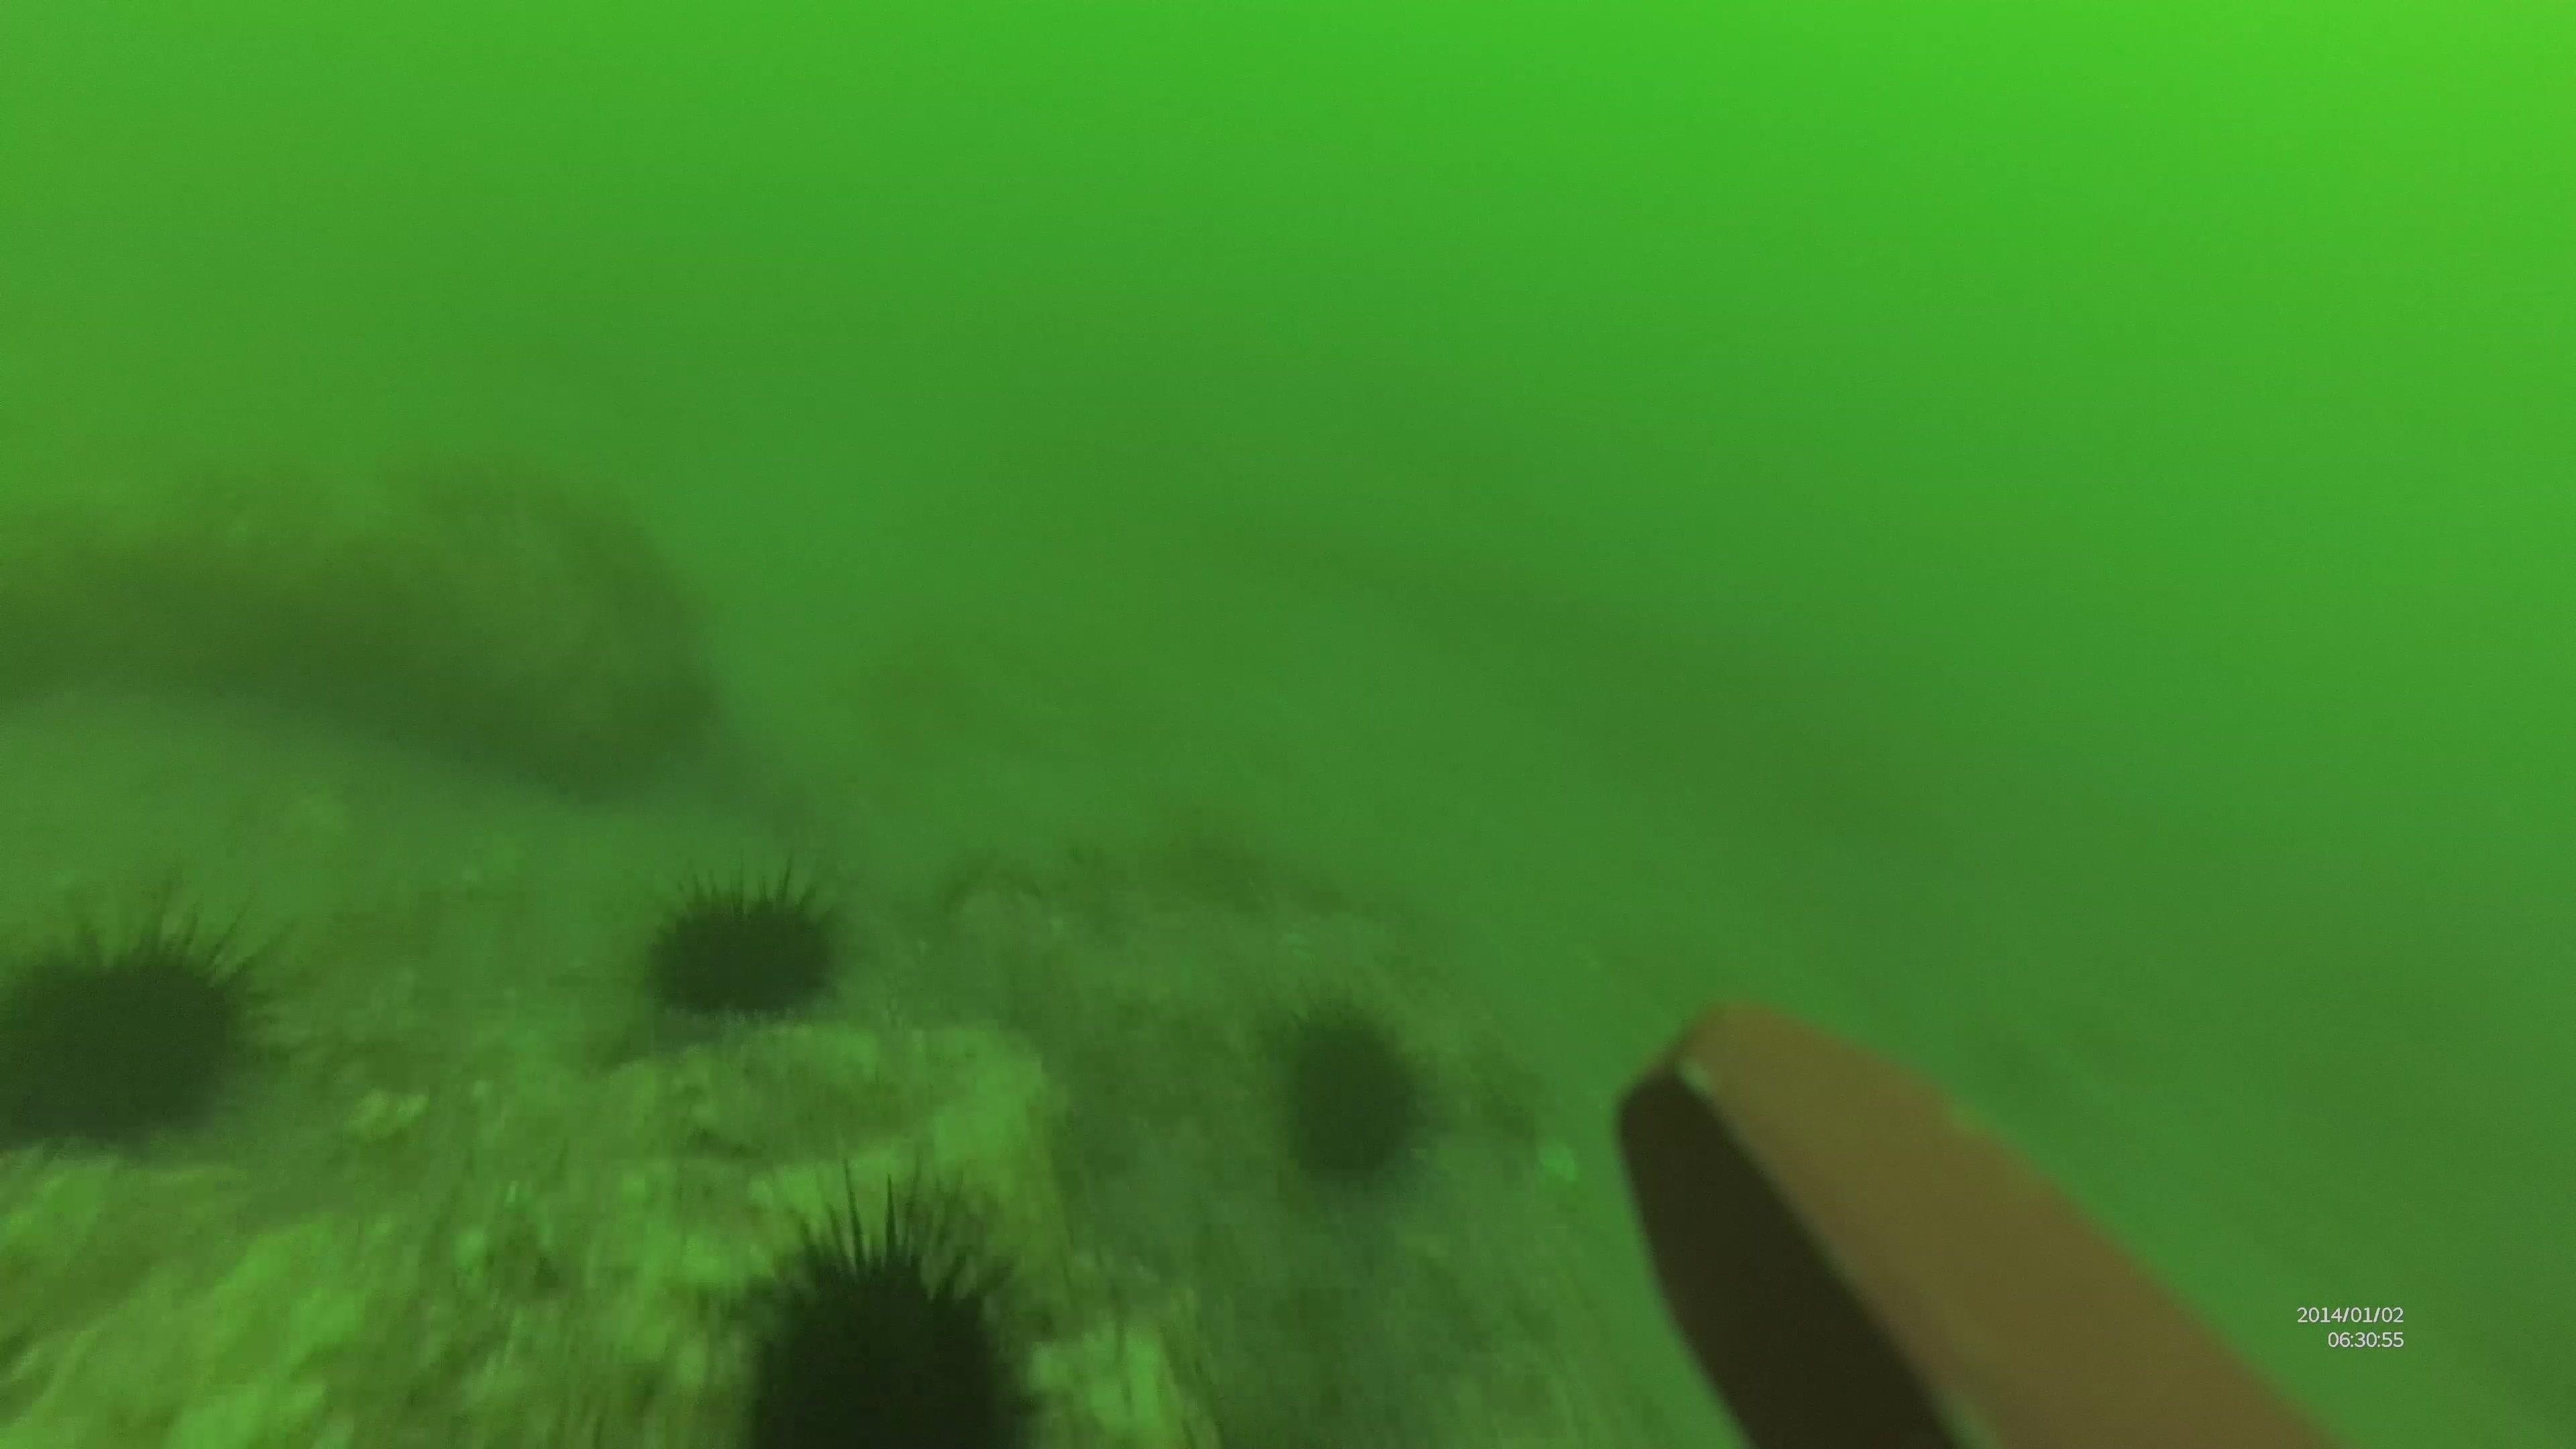echinus: (713, 1168, 1062, 1442), (2, 886, 297, 1157), (639, 862, 849, 1026), (1269, 1000, 1435, 1191)
